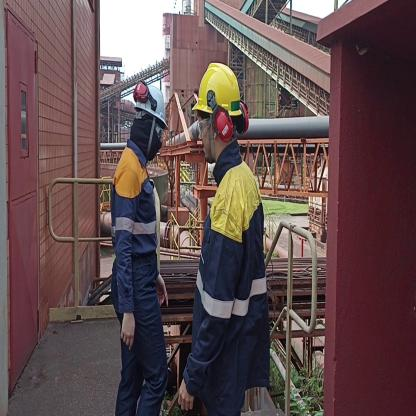Balaclava: (135, 111, 164, 163)
C_eletrica: (186, 180, 280, 413)
Capacete: (192, 62, 244, 116), (136, 83, 168, 122)
Operacional: (110, 149, 164, 322)
